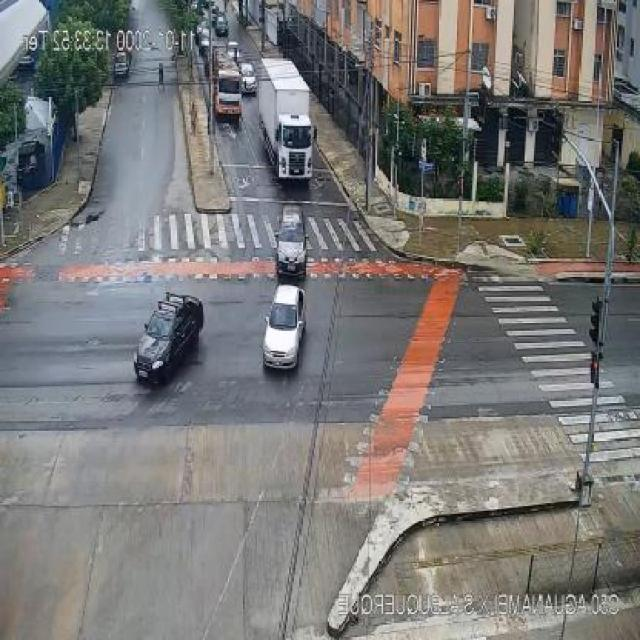Car: (134, 292, 204, 385), (260, 284, 306, 368), (274, 206, 308, 279), (239, 63, 257, 94), (196, 24, 212, 54), (113, 52, 130, 80), (215, 14, 228, 36)
Truck: (256, 59, 312, 180), (214, 63, 243, 119)
